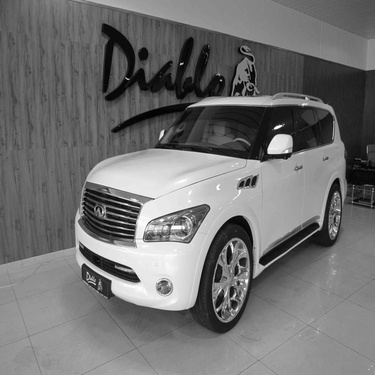car: (59, 87, 350, 332)
